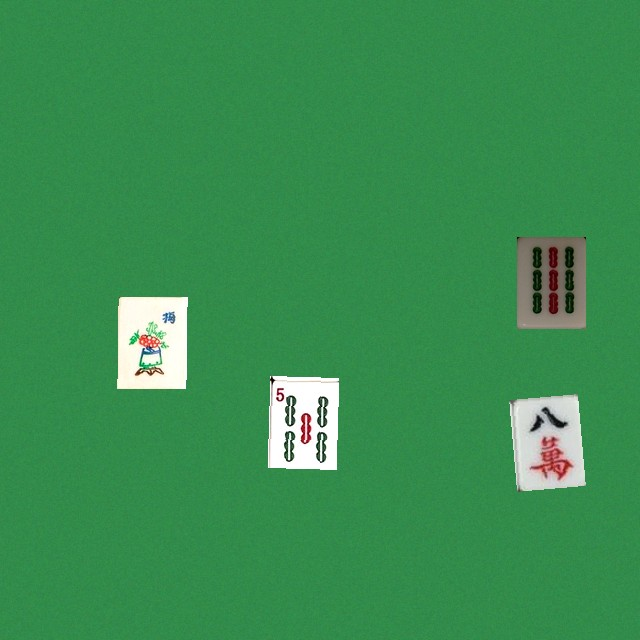tile: (117, 296, 186, 388), (267, 375, 336, 467), (516, 236, 585, 328), (509, 394, 578, 486)
